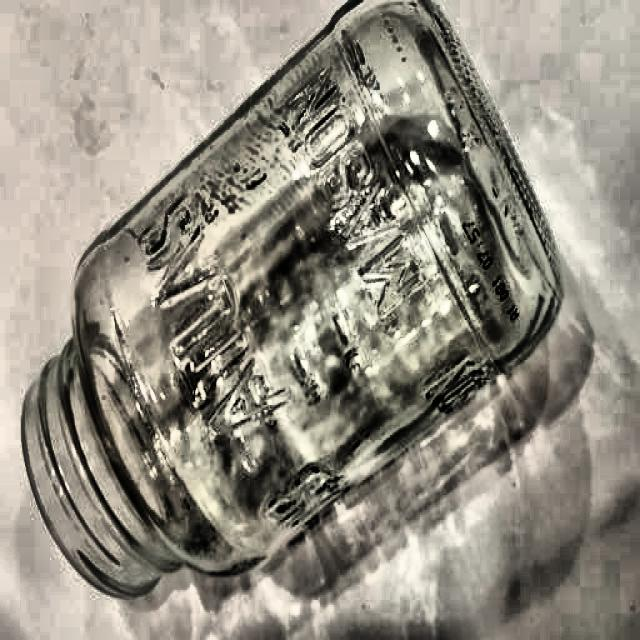glass: (25, 0, 563, 605)
